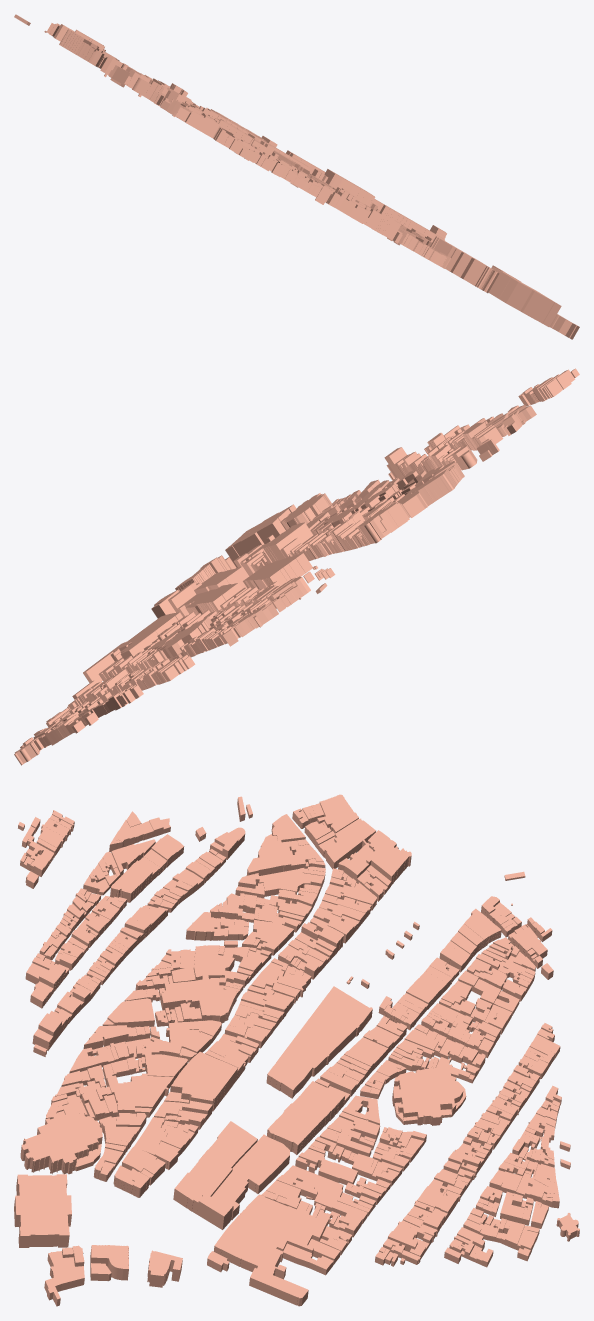
3 views of the same model, one above another, from view 1: azimuth 30°, elevation 25°; view 2: azimuth 150°, elevation 25°; view 3: azimuth 270°, elevation 25° (orthographic). The views are drawn at different scales.
Size of the model in its own units: 552 by 419 by 659.
